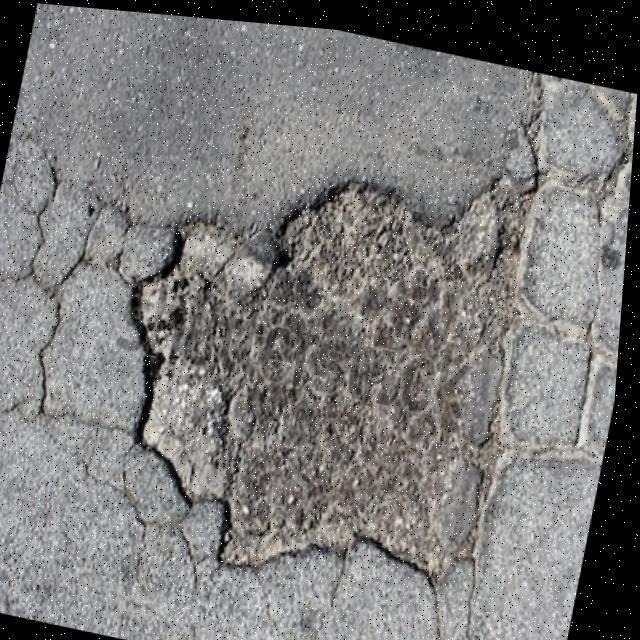Pothole: (140, 182, 532, 575)
